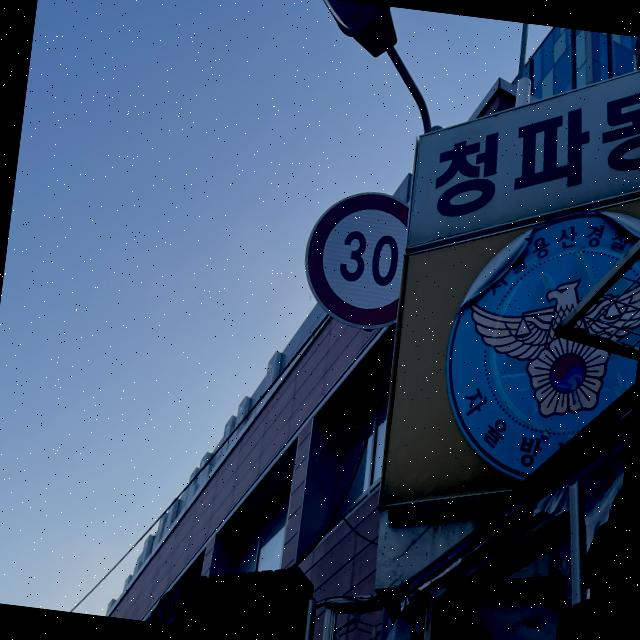Ograniczenie predkosci do 30: (298, 185, 411, 329)
